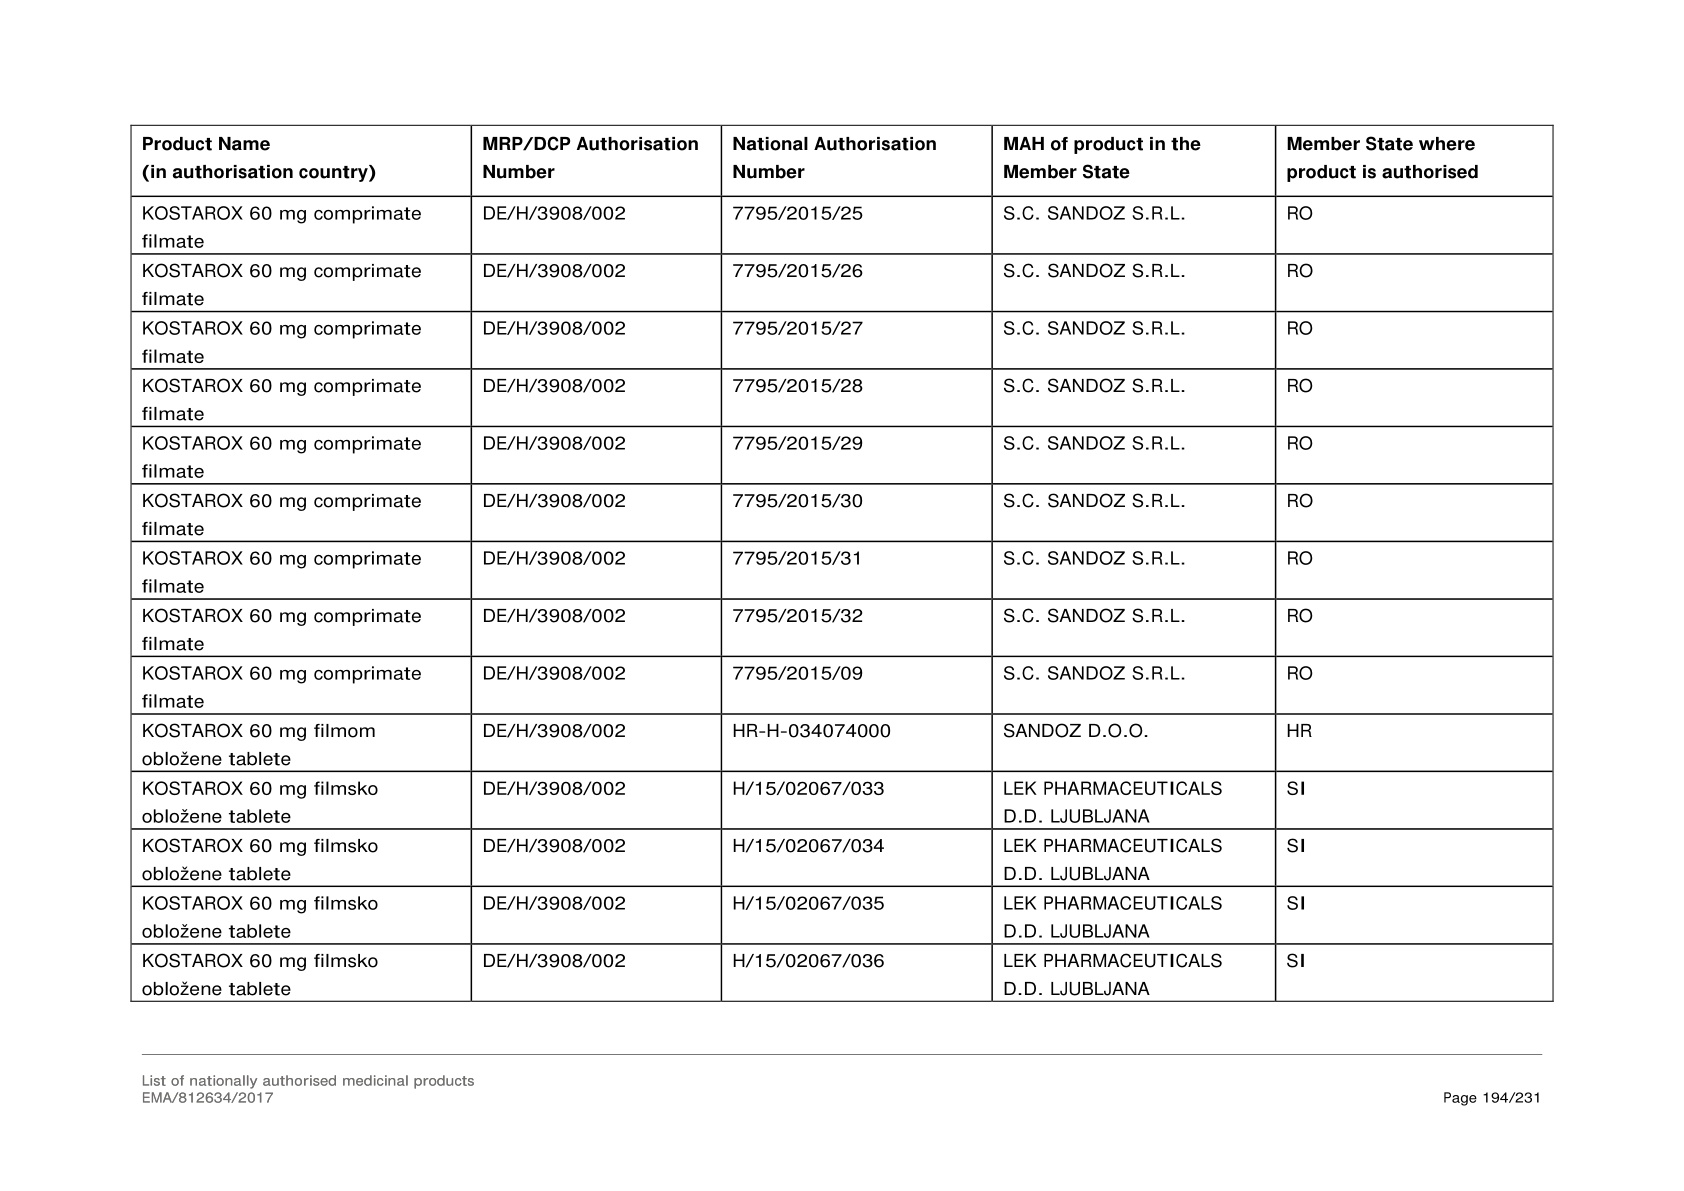full_lined: (128, 122, 1555, 1003)
